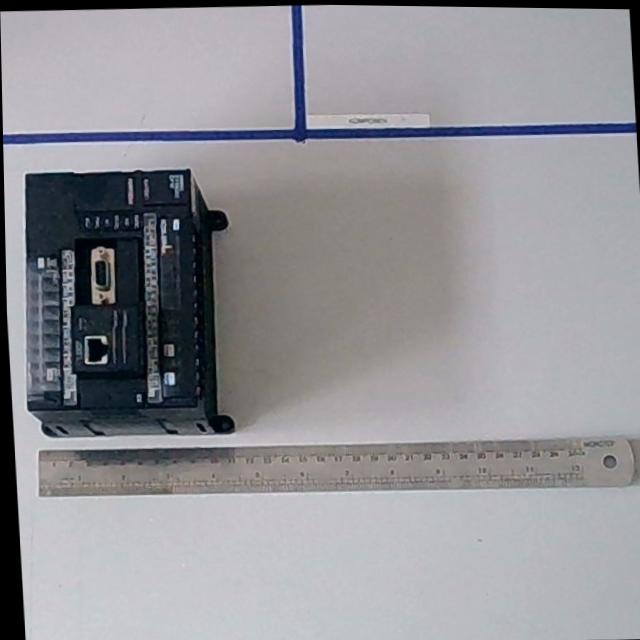plc: (12, 162, 241, 445)
ruler: (33, 426, 636, 507)
